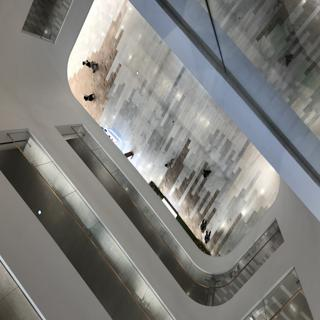person: (80, 56, 110, 81), (81, 89, 103, 108)
